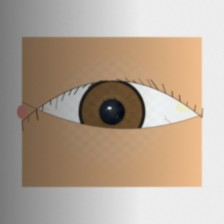pinguecula_lesion: (168, 94, 200, 120)
